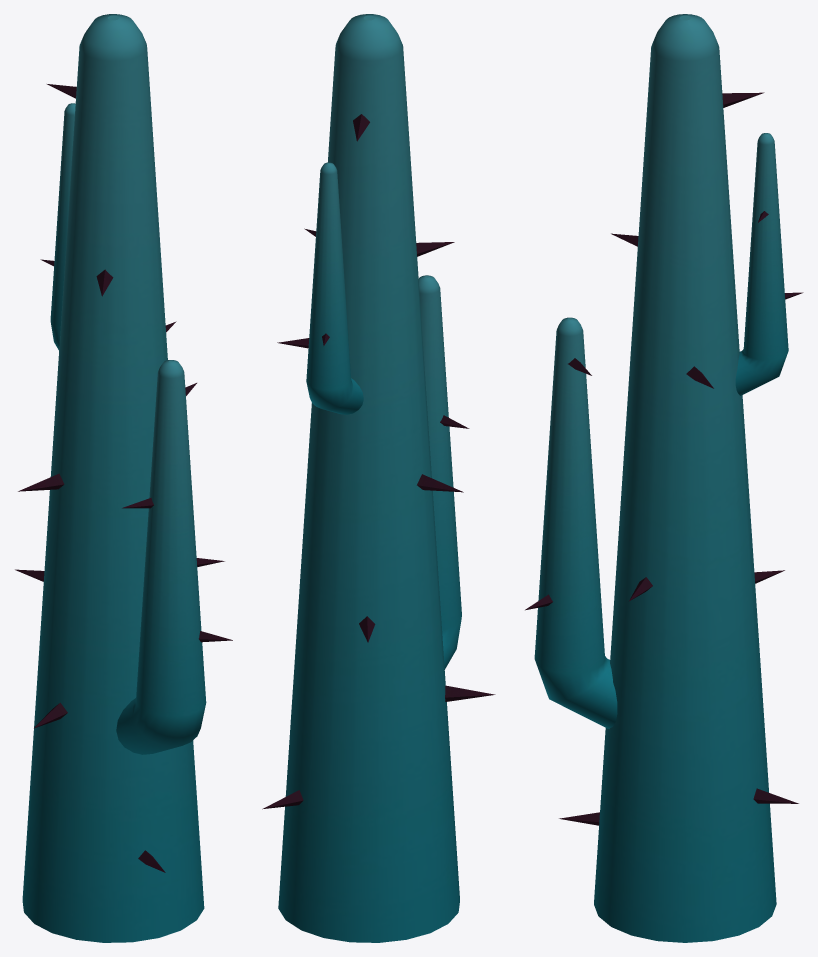
Rendered from Cactus_01.fbx.
3 views of the same model, side by side, from view 1: azimuth 30°, elevation 25°; view 2: azimuth 150°, elevation 25°; view 3: azimuth 270°, elevation 25° (orthographic).
Parts seen in each view (by area): view 1: pCylinder7; view 2: pCylinder7; view 3: pCylinder7.
Part boxes in pixels (x1,y1,x2,y2): pCylinder7: [15, 14, 232, 942]; pCylinder7: [262, 14, 495, 942]; pCylinder7: [525, 14, 803, 942].
Bounding box in the file's own units: 1.01 × 4.57 × 1.31.
